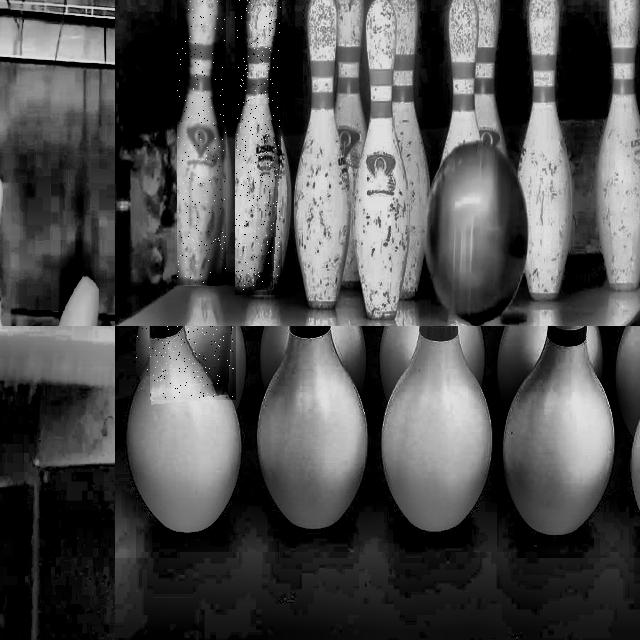bowling-ball: (427, 140, 529, 323)
bowling-pins: (503, 326, 616, 536), (126, 326, 240, 532), (381, 326, 493, 532), (257, 326, 368, 530), (294, 0, 350, 308), (355, 0, 409, 319), (518, 0, 573, 299), (177, 0, 226, 283), (235, 0, 282, 293), (597, 0, 640, 290), (390, 0, 430, 298), (335, 0, 367, 286), (440, 0, 481, 169), (475, 0, 507, 155), (499, 326, 548, 411), (189, 326, 234, 398), (380, 326, 419, 397), (331, 326, 366, 391), (260, 326, 288, 388), (460, 326, 485, 383), (588, 326, 604, 379), (136, 326, 153, 375)
